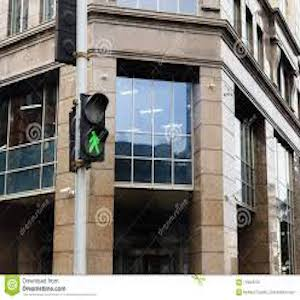green: (83, 130, 103, 160)
